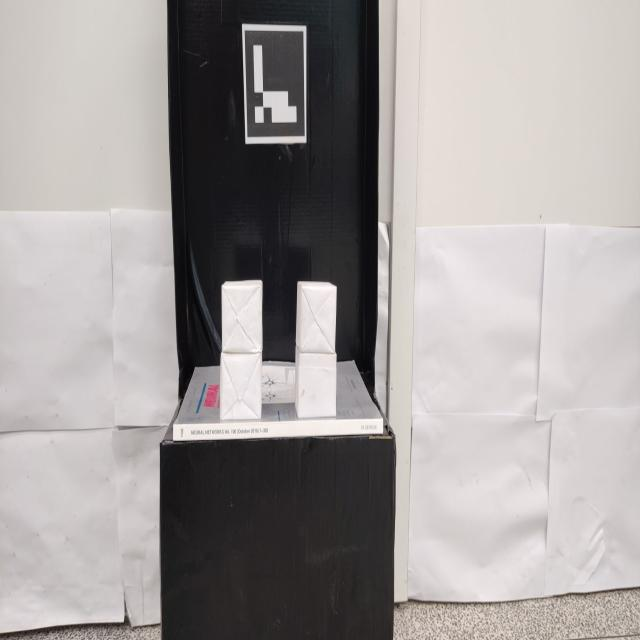bale: (220, 276, 265, 358), (295, 276, 340, 352), (291, 353, 340, 421), (219, 353, 263, 423)
